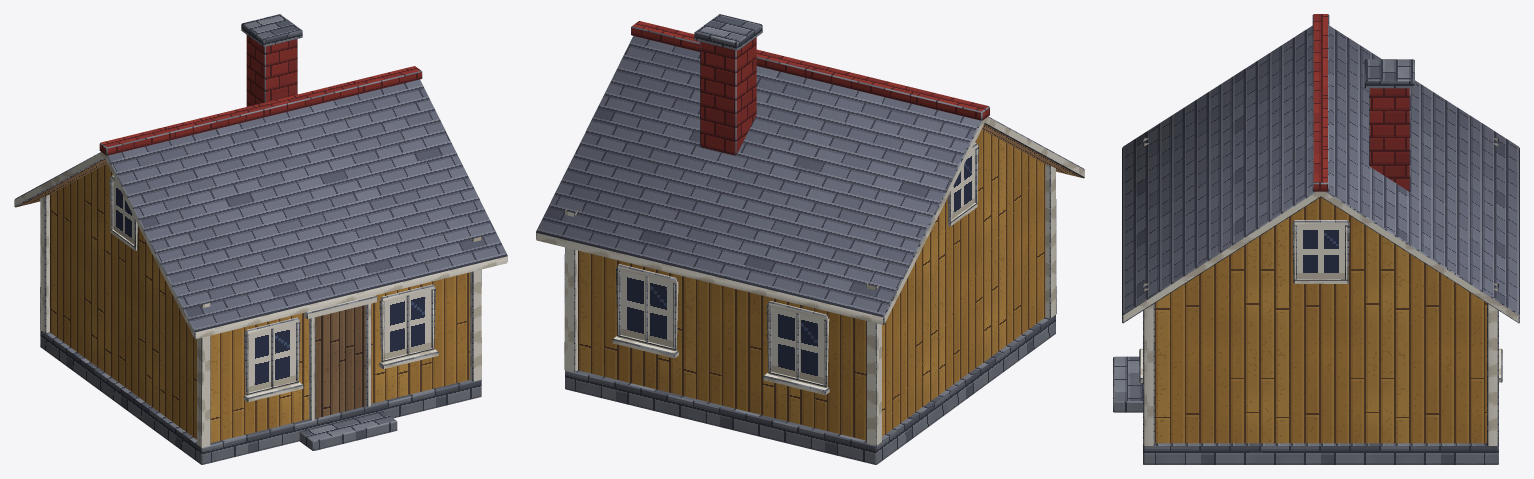
Rendered from cottage_0.glb.
The picture shows the model from 3 angles, left to right: view 1: azimuth 30°, elevation 25°; view 2: azimuth 150°, elevation 25°; view 3: azimuth 270°, elevation 25°; orthographic projection. The views are drawn at different scales.
Visible parts, largest first — view 1: cottage_1; view 2: cottage_1; view 3: cottage_1.
Part boxes in pixels (bbox=[...]): cottage_1: bbox=[14, 14, 507, 464]; cottage_1: bbox=[536, 14, 1084, 464]; cottage_1: bbox=[1113, 14, 1519, 464].
Size of the model in its own units: 6.71 by 6.33 by 6.8.
8 materials, 8 textured.
